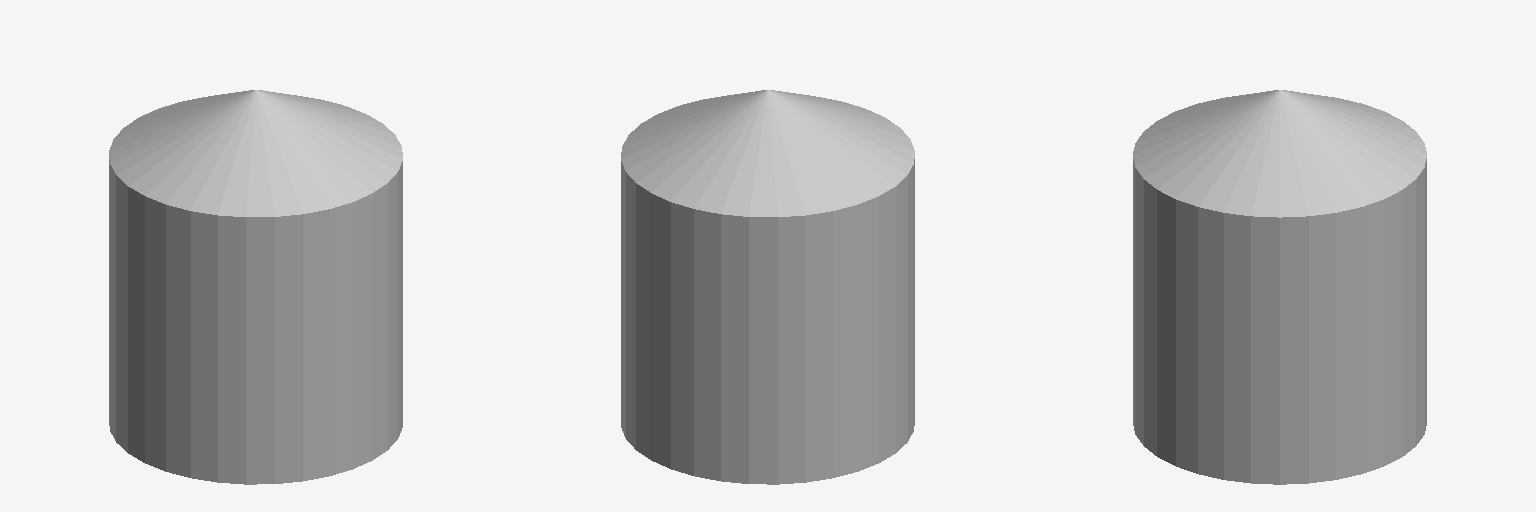
The model's file is triangulatedCylinder.obj.
3 views of the same model, side by side, from view 1: azimuth 30°, elevation 25°; view 2: azimuth 150°, elevation 25°; view 3: azimuth 270°, elevation 25° (orthographic).
Parts seen in each view (by area): view 1: Cylinder; view 2: Cylinder; view 3: Cylinder.
Part boxes in pixels (left/top/right/bottom): Cylinder: left=109, top=90, right=402, bottom=484; Cylinder: left=621, top=90, right=914, bottom=484; Cylinder: left=1133, top=90, right=1426, bottom=484.
Bounding box in the file's own units: 2 × 2.49 × 2.